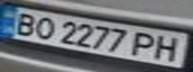2: (72, 20, 96, 50), (54, 18, 78, 47)
7: (106, 25, 133, 55), (90, 24, 112, 52)
B: (6, 9, 42, 36)
H: (148, 33, 187, 63)
O: (27, 15, 60, 40)
P: (127, 29, 163, 58)
